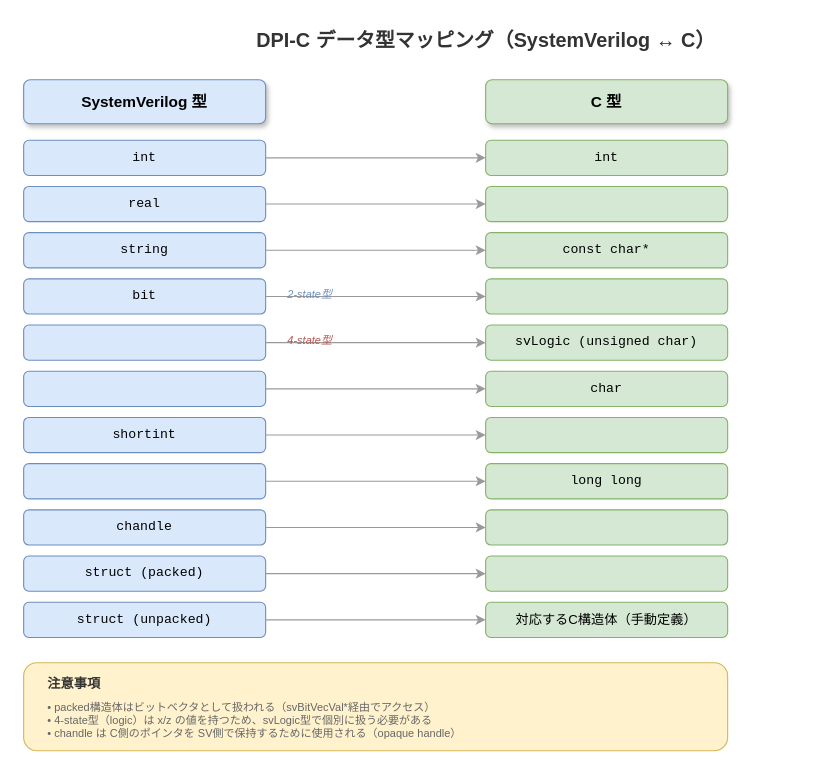
The diagram is 813 pixels wide and 770 high, and some of its shapes have lost their labels. The centre of each missing label's shape, as x and y in pixels:
byte: (x=144, y=388)
double: (x=606, y=203)
logic: (x=144, y=342)
longint: (x=144, y=481)
short: (x=606, y=434)
svBit (unsigned char): (x=606, y=296)
svBitVecVal*: (x=606, y=573)
void*: (x=606, y=527)
